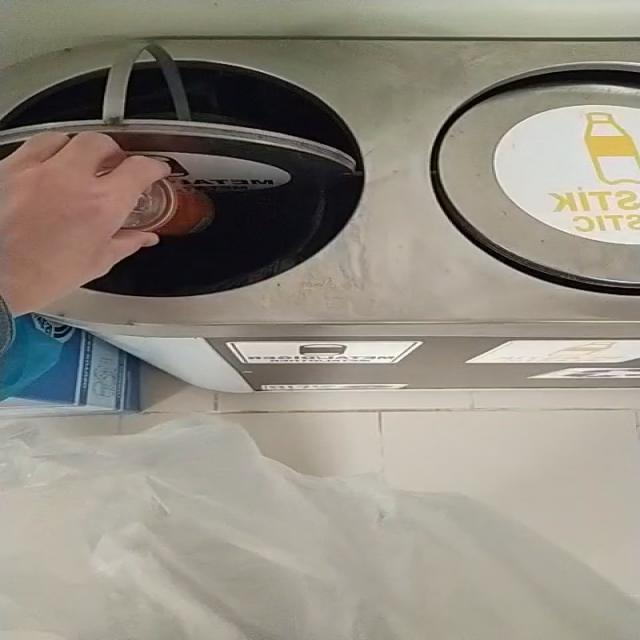bin: (0, 38, 640, 392)
metal: (120, 178, 213, 236)
